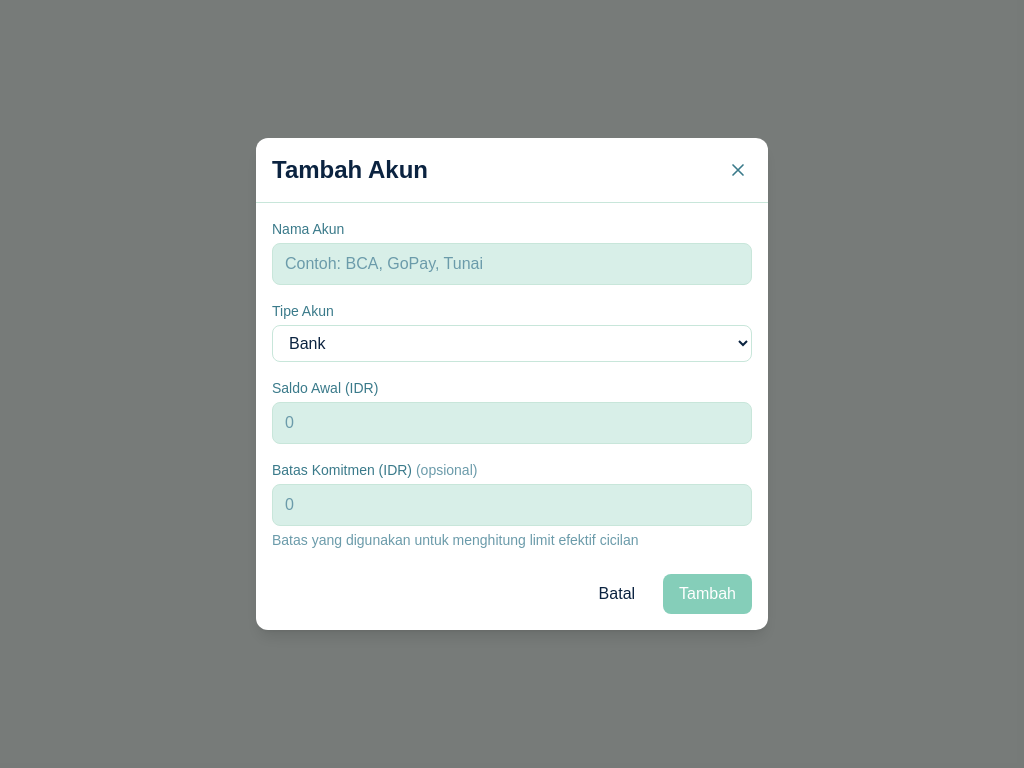
it: AccountForm › shows credit card fields when credit_card type is selected
// Select credit_card type
Select "Kartu Kredit" in the dropdown labelled "Tipe Akun": coordinates (512, 344) [272,325,752,362]
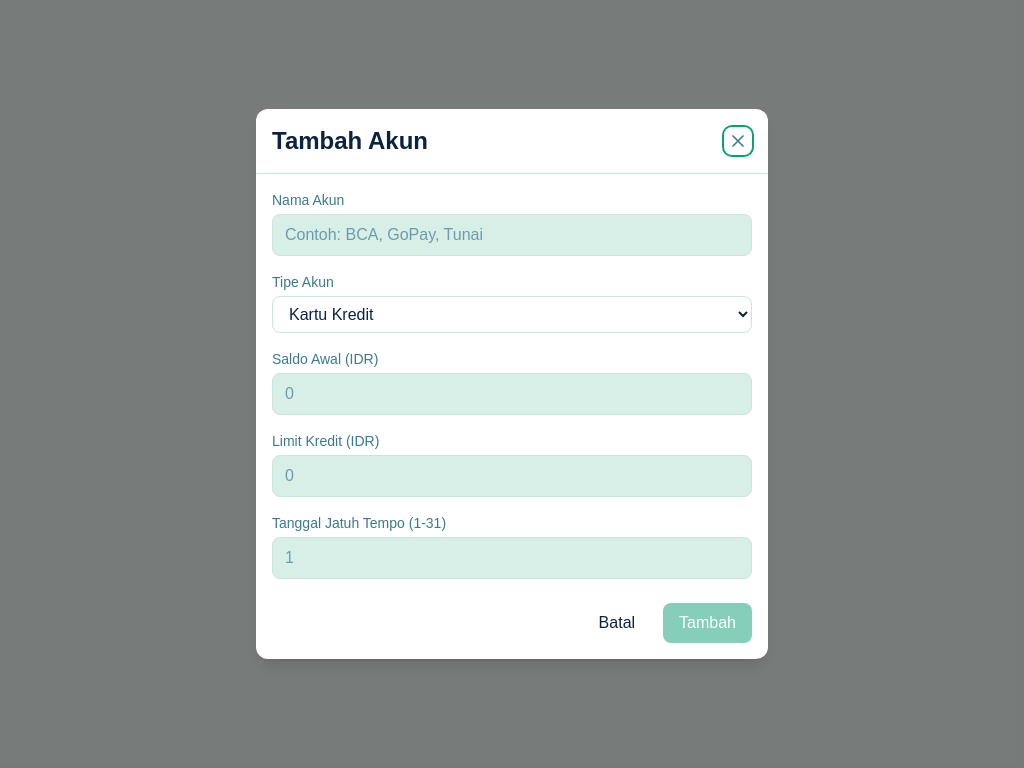
Result: the number field labelled "Limit Kredit (IDR)" is shown at [272,455,752,497]
Result: the number field labelled "Tanggal Jatuh Tempo (1-31)" is shown at [272,537,752,579]
